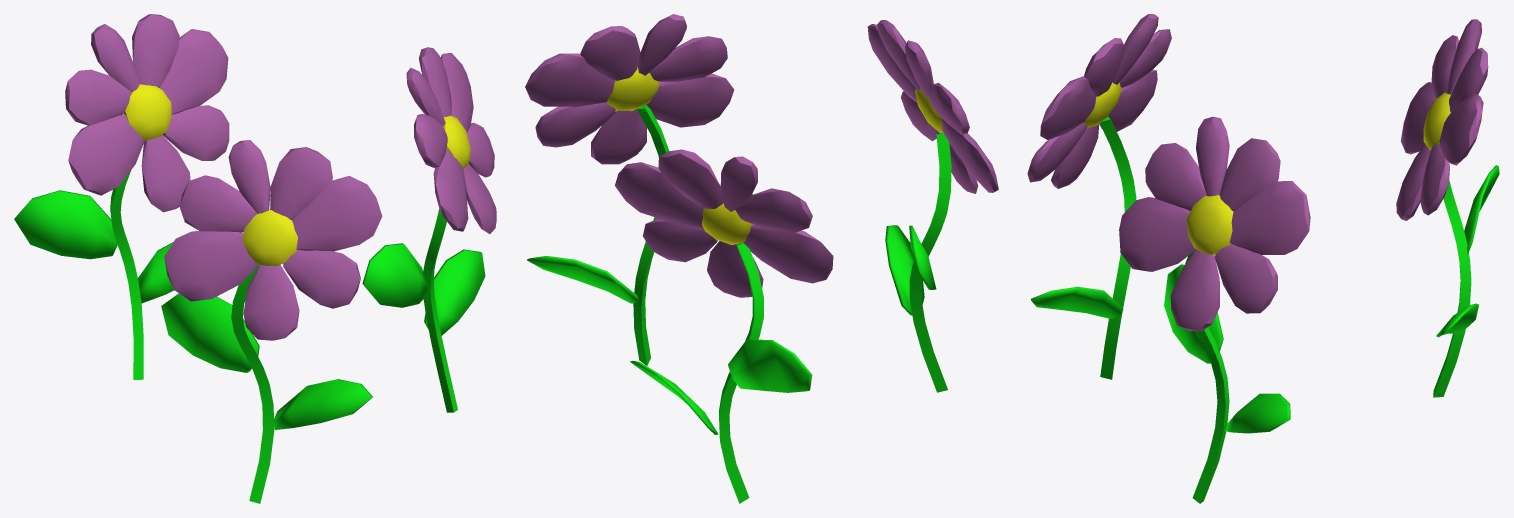
The model's file is flower.glb.
3 views of the same model, side by side, from view 1: azimuth 30°, elevation 25°; view 2: azimuth 150°, elevation 25°; view 3: azimuth 270°, elevation 25° (orthographic). The views are drawn at different scales.
Visible parts, largest first — view 1: flower; view 2: flower; view 3: flower.
Boxes of the visible parts, x1,y1,x2,y2 form: flower: (14,14,496,503); flower: (525,14,998,503); flower: (1027,14,1499,503).
Bounding box in the file's own units: 1.62 × 1.41 × 1.64.
